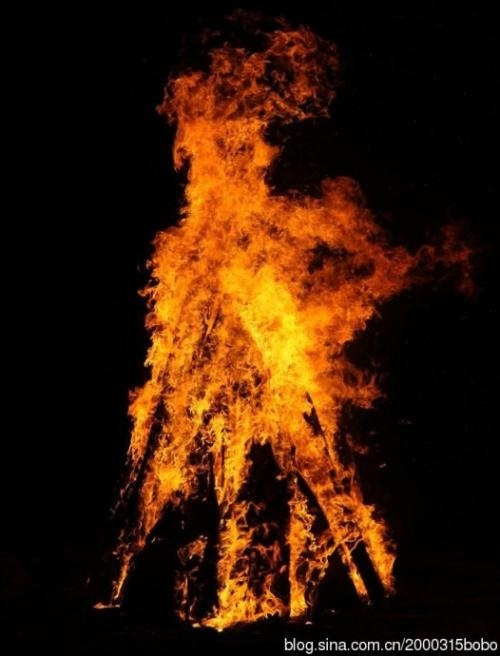fire: (87, 62, 457, 628)
